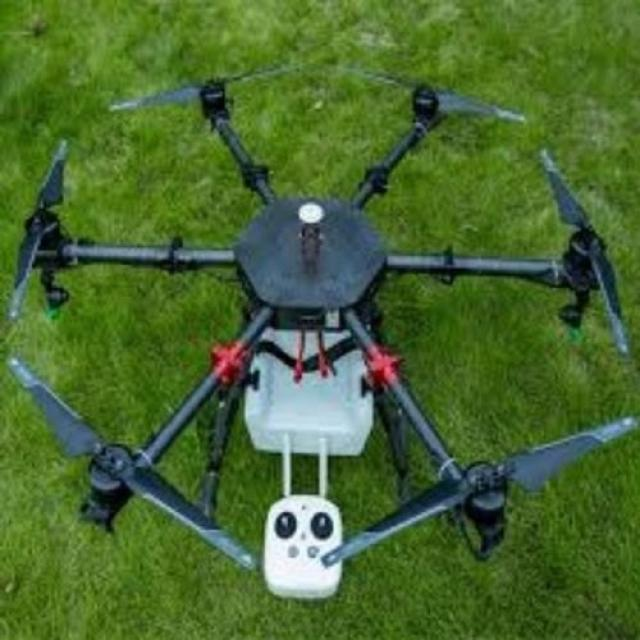drone: (3, 37, 640, 601)
